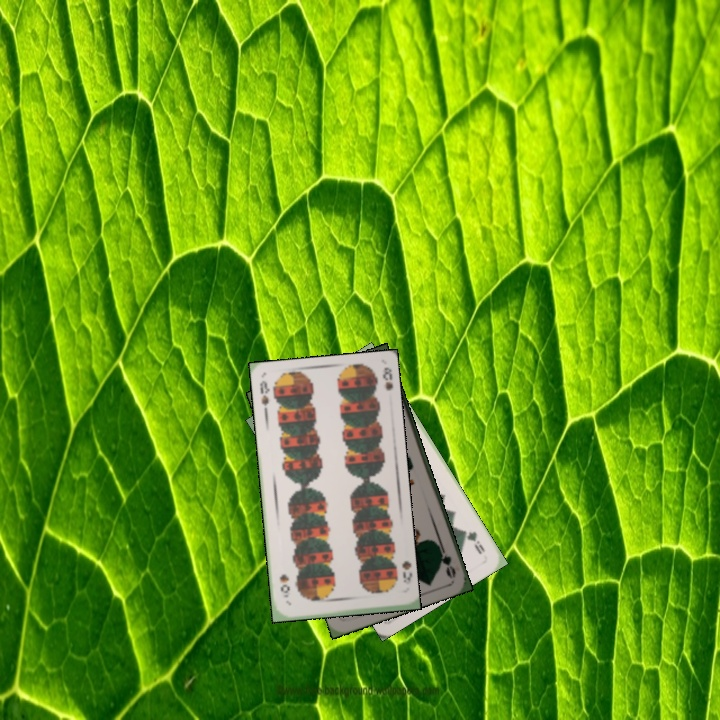G9: (460, 526, 488, 557)
GO: (434, 540, 459, 580)
S8: (256, 377, 272, 417), (398, 557, 413, 587)
